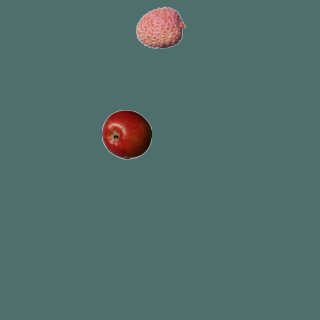Apple Braeburn: (101, 109, 151, 159)
Lychee: (135, 2, 185, 52)
